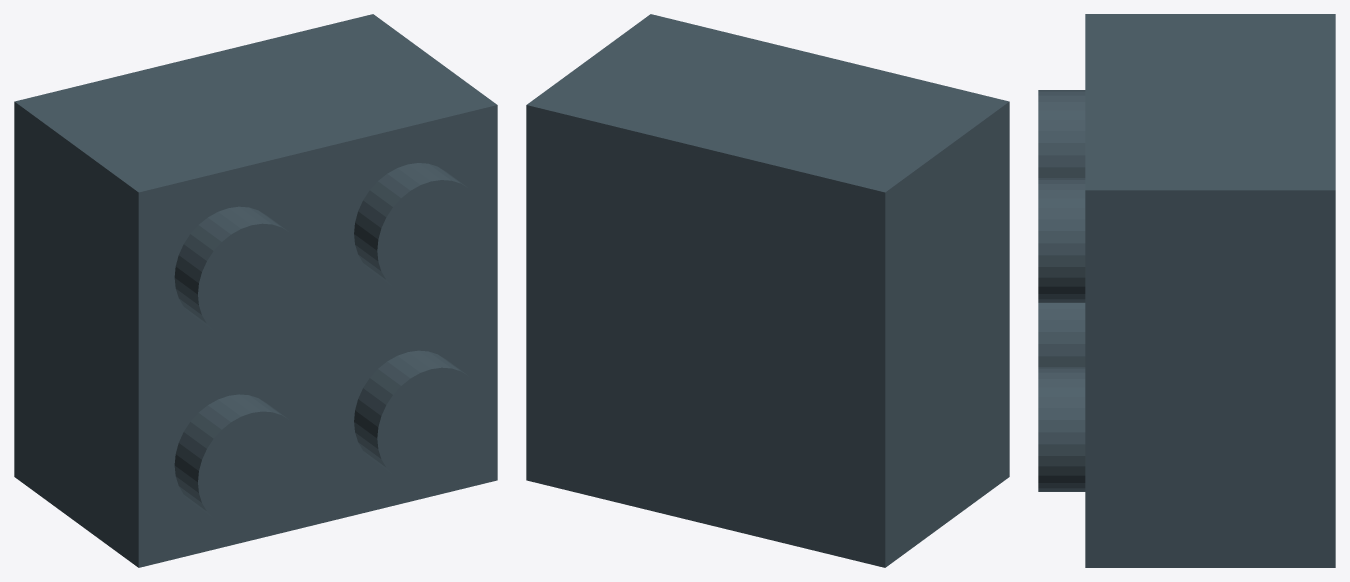
Rendered from brick_1.glb.
3 renders of one model, left to right at view 1: azimuth 30°, elevation 25°; view 2: azimuth 150°, elevation 25°; view 3: azimuth 270°, elevation 25°, orthographic.
Visible parts, largest first — view 1: world; view 2: world; view 3: world.
Boxes of the visible parts, bbox=[...] form: world: bbox=[14, 14, 497, 567]; world: bbox=[526, 14, 1009, 567]; world: bbox=[1038, 14, 1335, 567].
Size of the model in its own units: 16 by 16 by 11.4.
